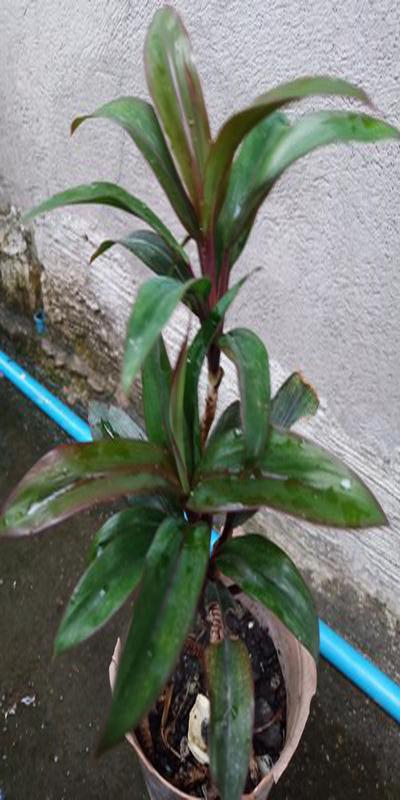Baston de san jose: (51, 34, 380, 741)
